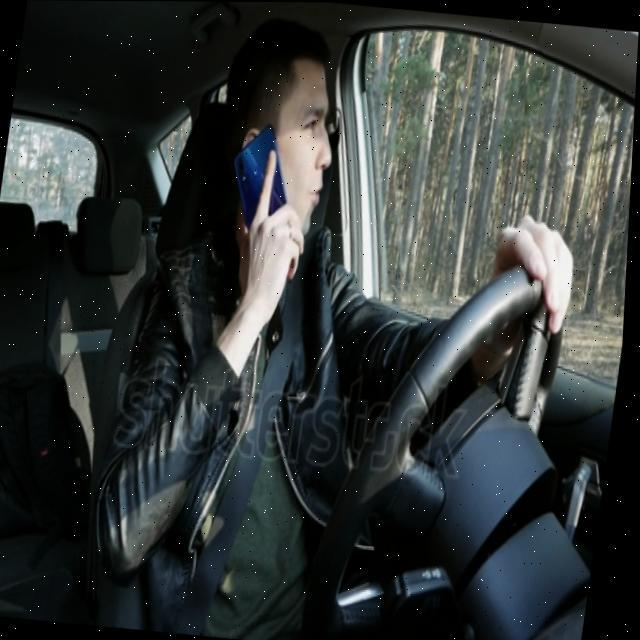PhoneCall: (225, 123, 298, 244)
